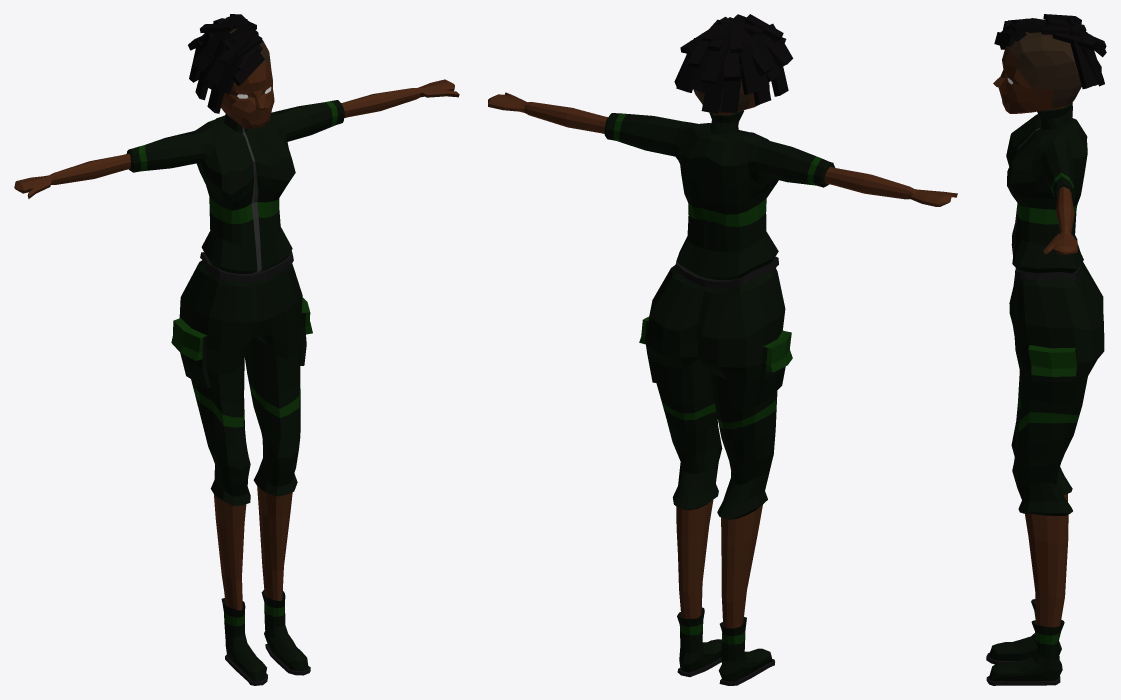
File: woman_08.FBX
3 renders of one model, left to right at view 1: azimuth 30°, elevation 25°; view 2: azimuth 150°, elevation 25°; view 3: azimuth 270°, elevation 25°, orthographic. The views are drawn at different scales.
Parts seen in each view (by area): view 1: Box048; view 2: Box048; view 3: Box048.
Boxes of the visible parts, <box> form: Box048: <box>14,14,459,685</box>; Box048: <box>488,14,957,685</box>; Box048: <box>986,14,1106,685</box>.
Size of the model in its own units: 102 by 141 by 23.85.
